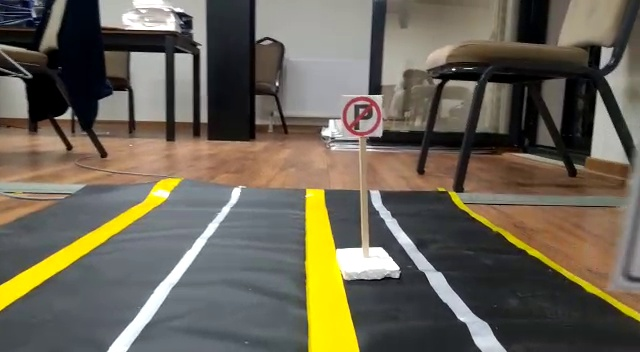park_yapilmaz: (340, 96, 384, 136)
